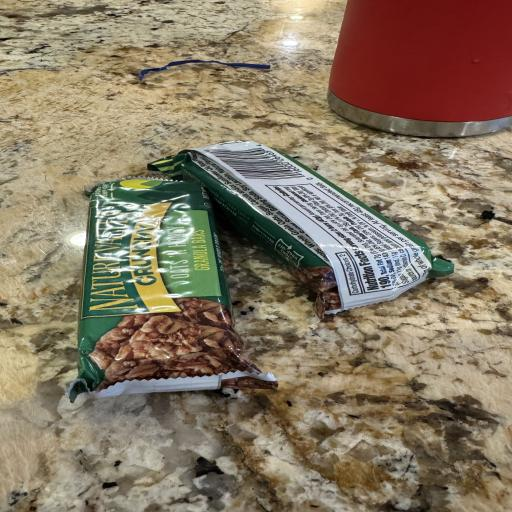granola: (149, 142, 453, 317), (68, 179, 277, 401)
